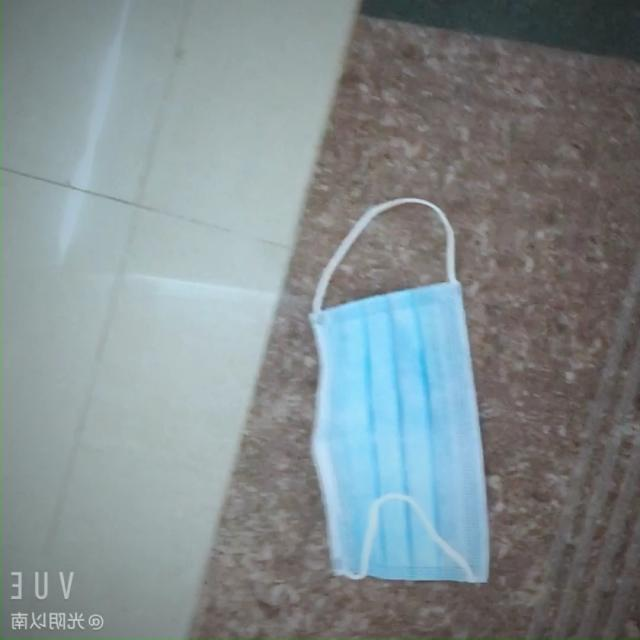face mask: (314, 267, 504, 597)
